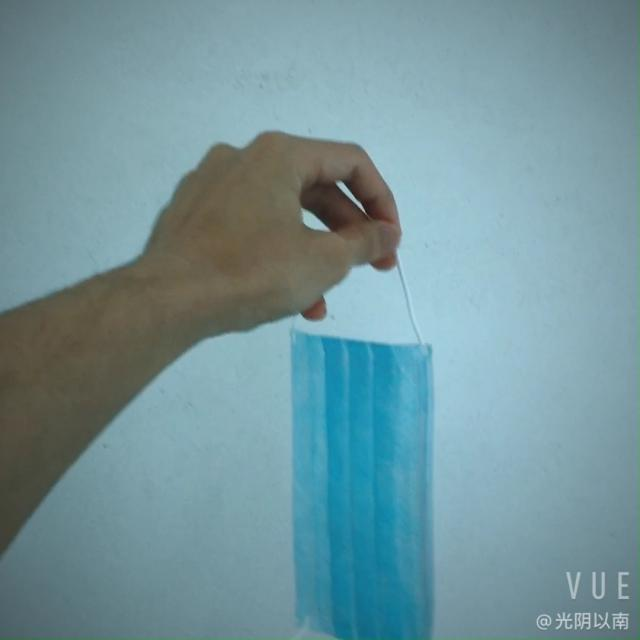face mask: (296, 308, 460, 632)
